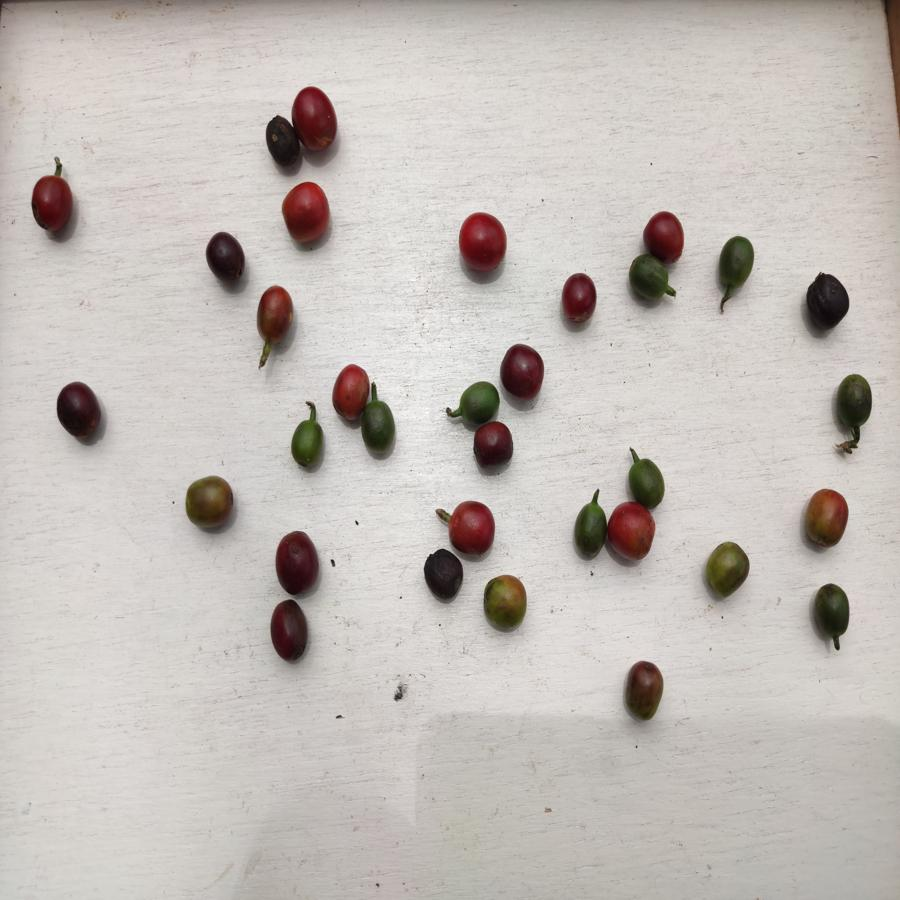Inmaduro: (836, 373, 875, 436), (813, 582, 853, 642), (717, 235, 756, 289), (361, 400, 398, 455), (628, 456, 665, 510), (626, 256, 669, 302), (572, 502, 605, 561), (454, 381, 499, 420), (289, 419, 324, 466)
Maduro: (458, 212, 509, 274), (295, 86, 341, 153), (281, 182, 329, 246), (607, 502, 656, 564), (446, 500, 498, 556), (28, 174, 74, 233), (644, 211, 687, 261), (329, 363, 360, 422)
Pinton: (798, 485, 849, 549), (183, 475, 236, 532), (482, 574, 530, 635), (620, 660, 664, 723), (706, 541, 751, 599), (255, 284, 294, 344)
Sobremaduro: (275, 529, 322, 597), (54, 381, 103, 441), (803, 272, 850, 333), (499, 342, 546, 401), (269, 598, 310, 661), (204, 230, 247, 283), (560, 270, 599, 324), (424, 549, 463, 601), (472, 422, 514, 469), (262, 114, 296, 172)
